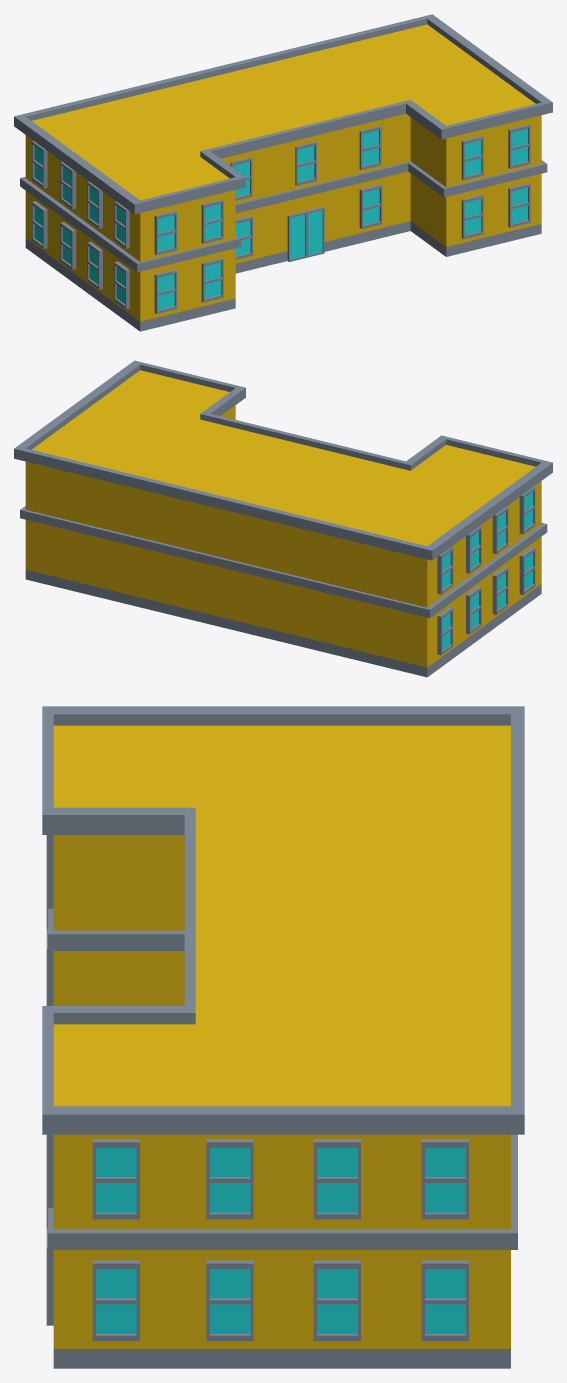
Rendered from Building4_3.fbx.
3 renders of one model, top to bottom at view 1: azimuth 30°, elevation 25°; view 2: azimuth 150°, elevation 25°; view 3: azimuth 270°, elevation 25°, orthographic. The views are drawn at different scales.
Visible parts, largest first — view 1: Building4_3; view 2: Building4_3; view 3: Building4_3.
Boxes of the visible parts, x1,y1,x2,y2 form: Building4_3: (14, 14, 552, 331); Building4_3: (14, 360, 552, 677); Building4_3: (42, 706, 524, 1368).
Bounding box in the file's own units: 4523 × 1356 × 2257.
